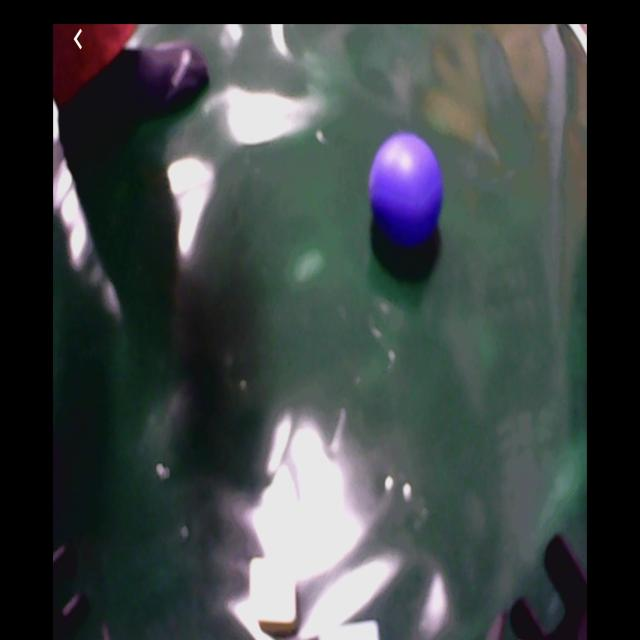ball: (372, 136, 443, 240)
